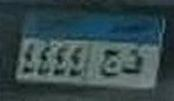4: (52, 45, 68, 78), (21, 42, 36, 77), (70, 46, 85, 80), (37, 46, 52, 77)
faa: (121, 46, 145, 80)
jeem: (97, 45, 121, 82)
